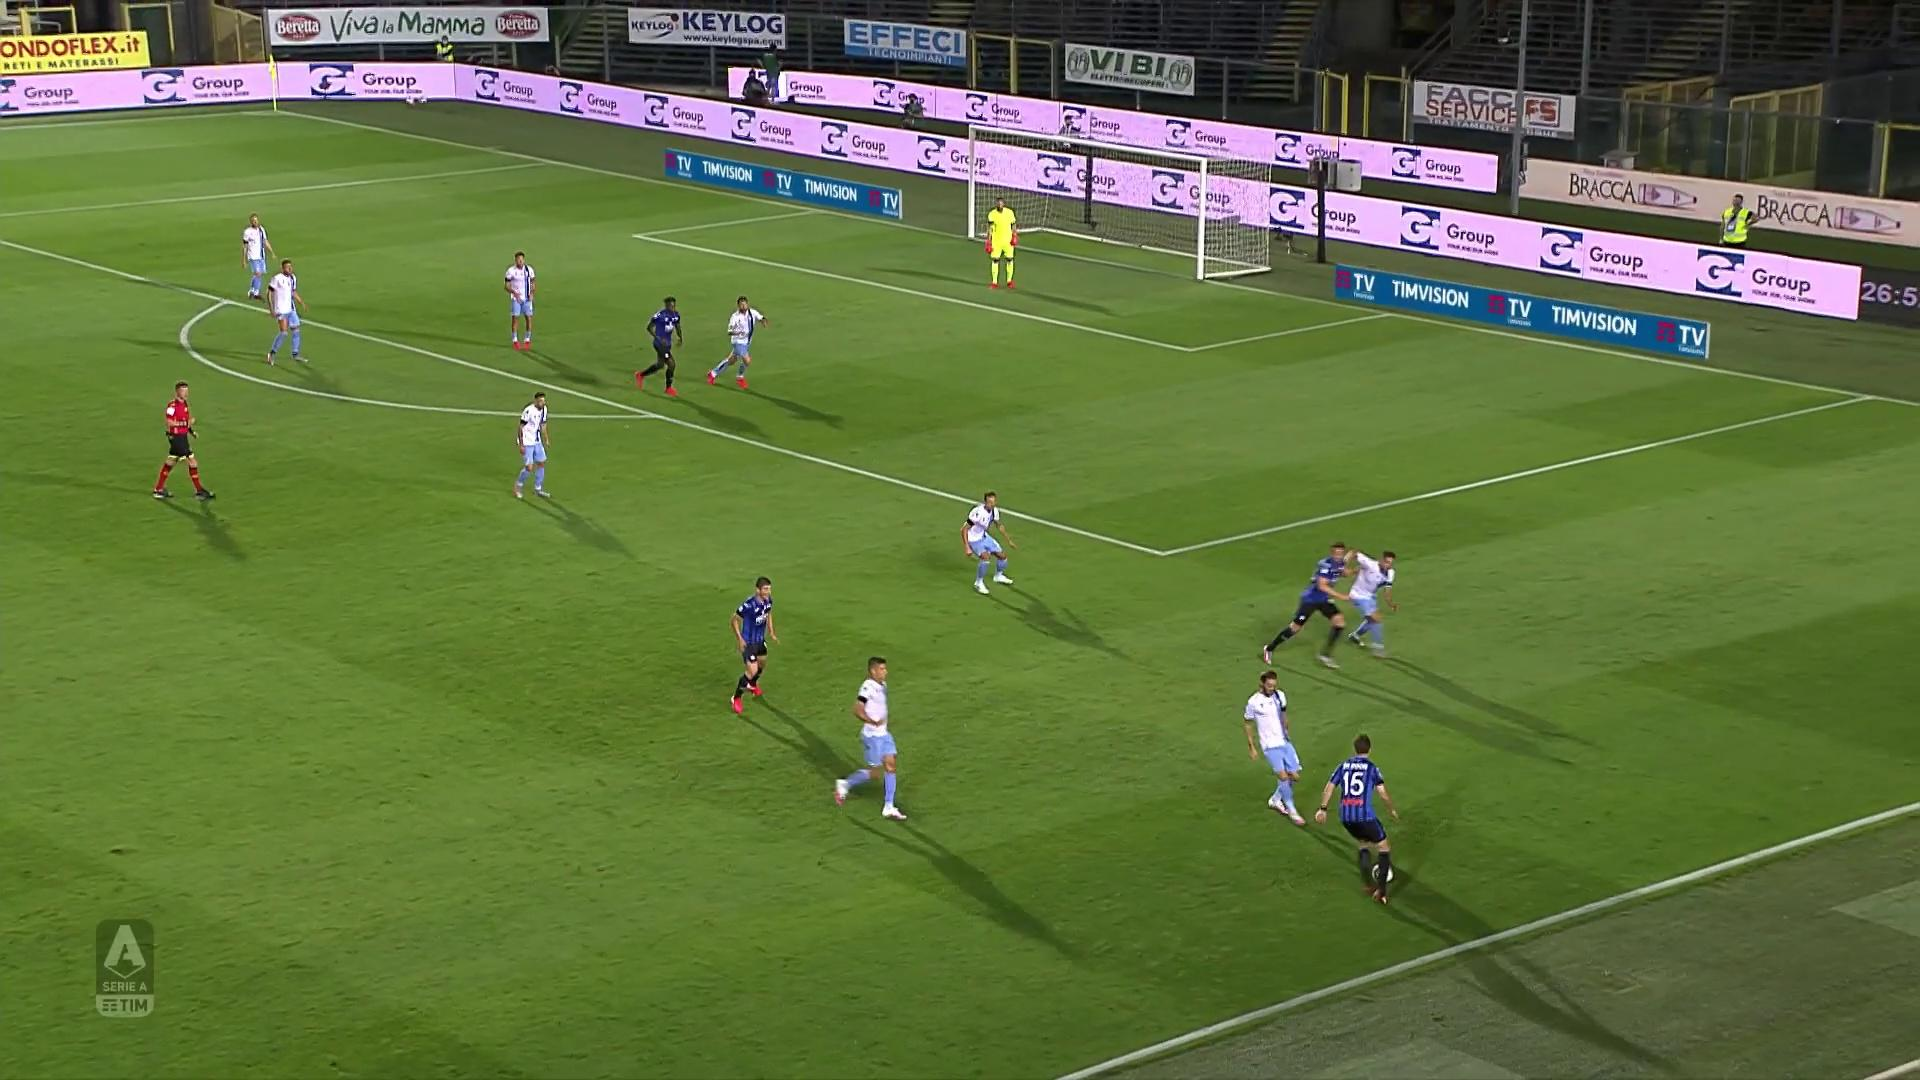ball: (1371, 856, 1396, 888)
goalkeeper: (983, 195, 1024, 293)
player: (1317, 728, 1403, 908), (827, 652, 913, 826), (1261, 539, 1364, 673), (1243, 667, 1310, 829), (1338, 543, 1401, 671), (728, 576, 783, 713), (705, 295, 770, 395), (962, 490, 1020, 599), (635, 294, 691, 401), (261, 258, 310, 370), (513, 391, 558, 503), (505, 249, 548, 355), (239, 214, 279, 310)
referee: (148, 382, 218, 510)
